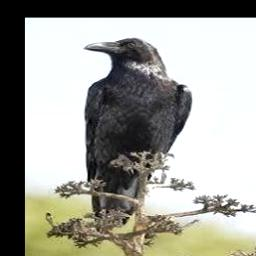Crow: (84, 38, 191, 235)
